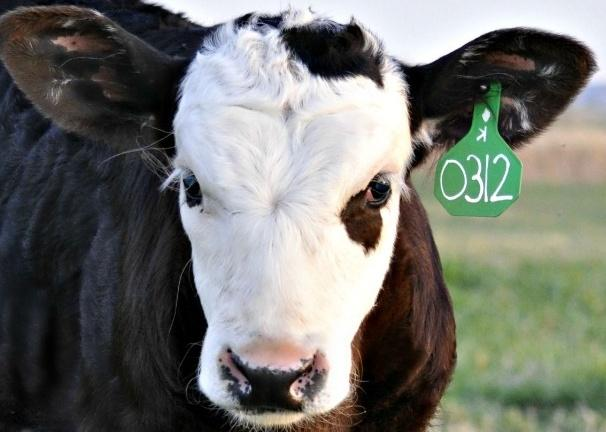muzzles: (195, 324, 364, 425)
